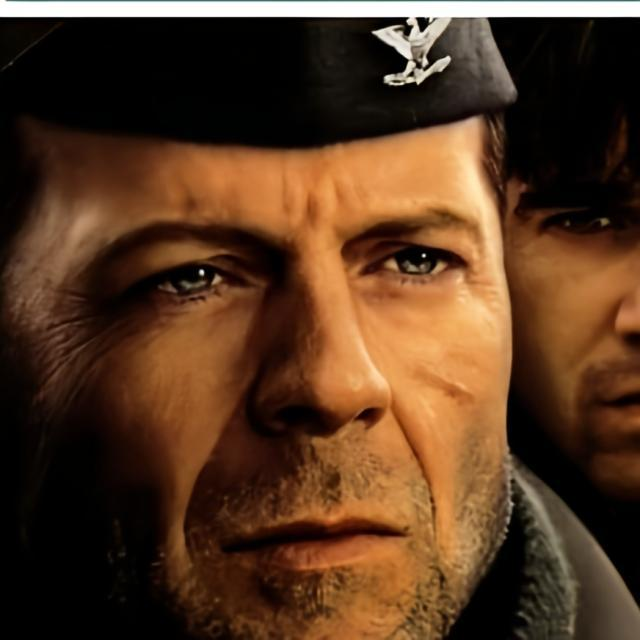anger: (36, 84, 510, 640), (516, 116, 640, 502)
